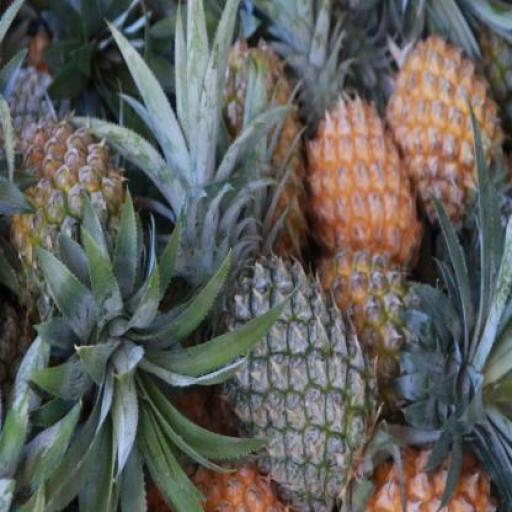------------------------------: (0, 119, 140, 330)
Pineapple - v8 v1: (387, 34, 500, 240), (305, 96, 420, 278)
